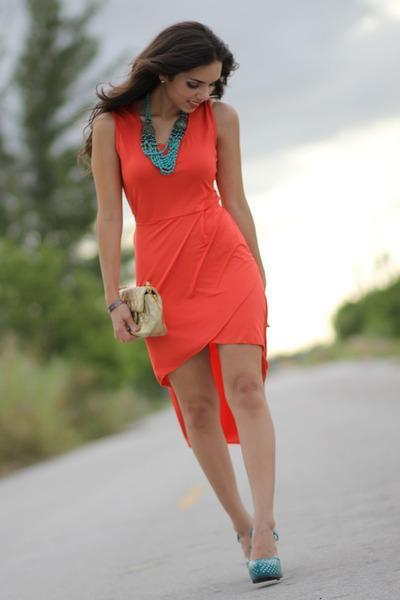bag: (119, 263, 163, 336)
dress: (112, 108, 269, 443)
shoe: (243, 544, 281, 583)
